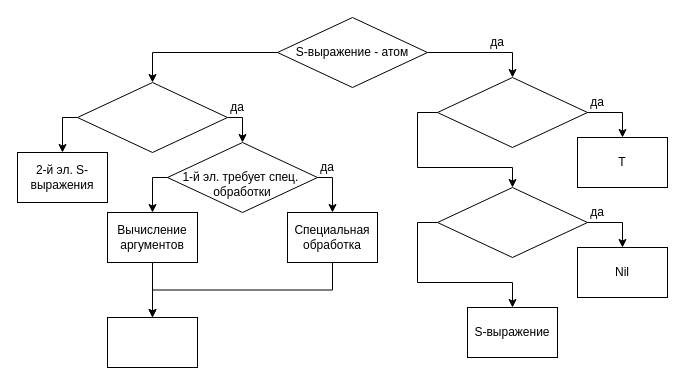
Image size: 685x385. Some labels were removed from this diagram. The shapes that lost their labels are listed below. From the top down, each one's centre as x and y in pixels, then its label:
At point 152,117: "1-й эл. S-выражения - quote".
At point 512,112: "S-выражение = Т".
At point 512,222: "S-выражение = Nil".
At point 152,342: "Применение 1-го арг. ко всем".
